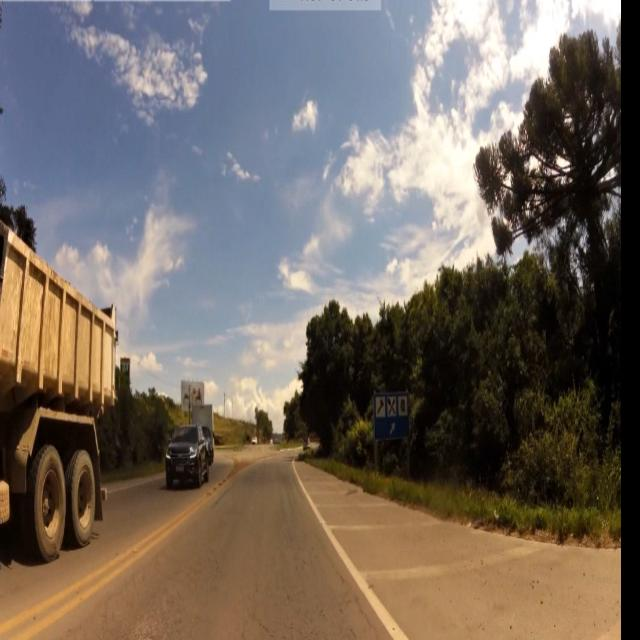LOC-6: (372, 393, 409, 443)
